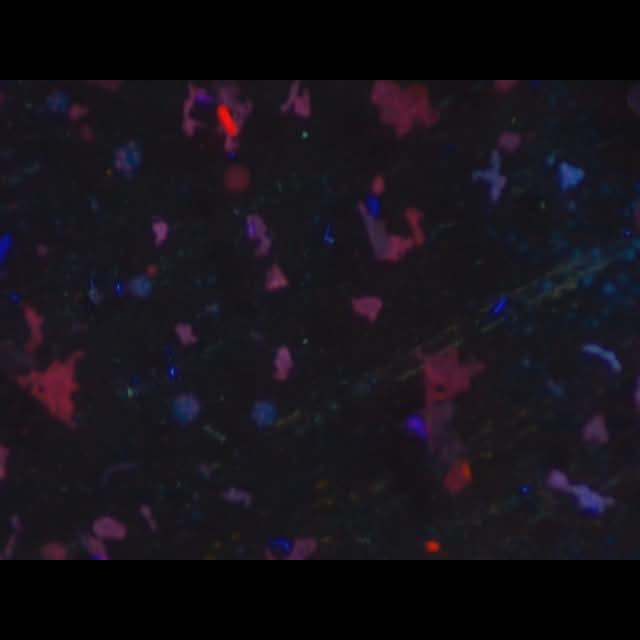Fragment: (273, 347, 293, 383)
